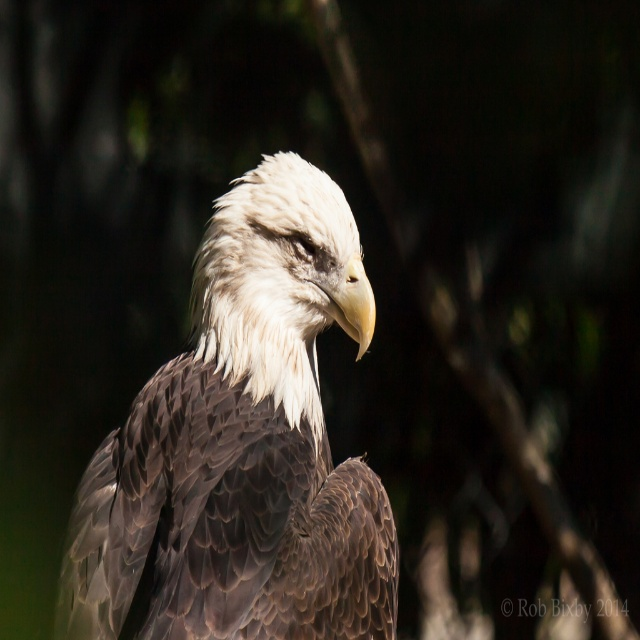Eagle: (56, 148, 398, 639)
